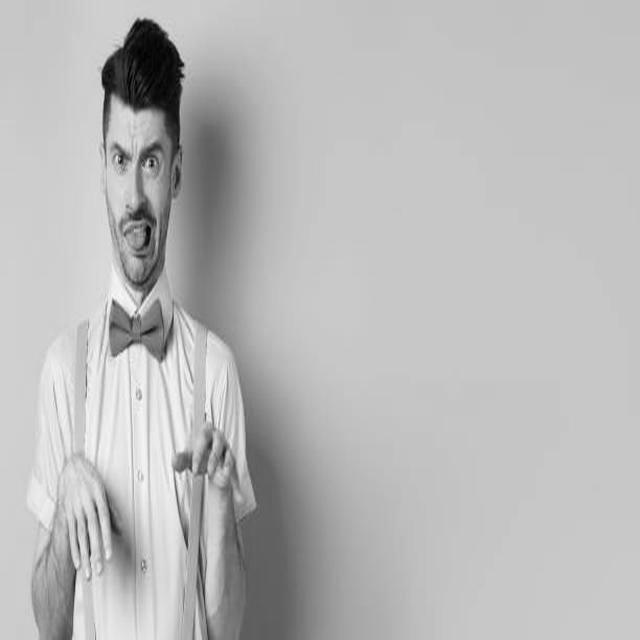Disgust: (103, 110, 172, 285)
